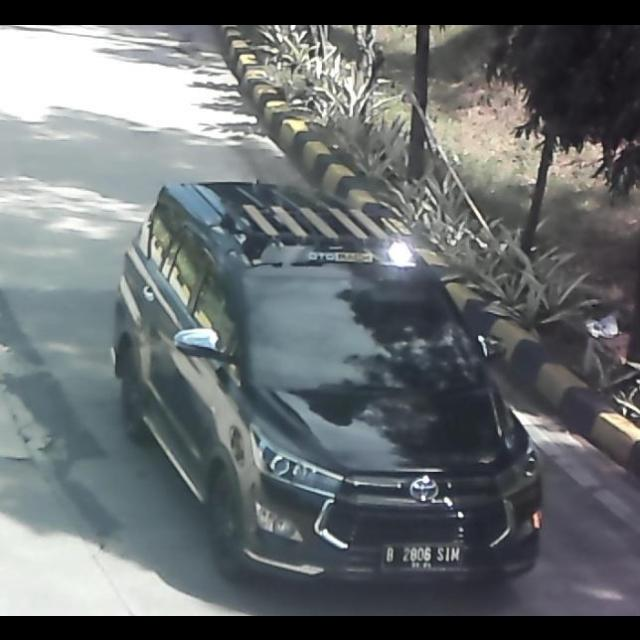plate: (378, 540, 472, 574)
